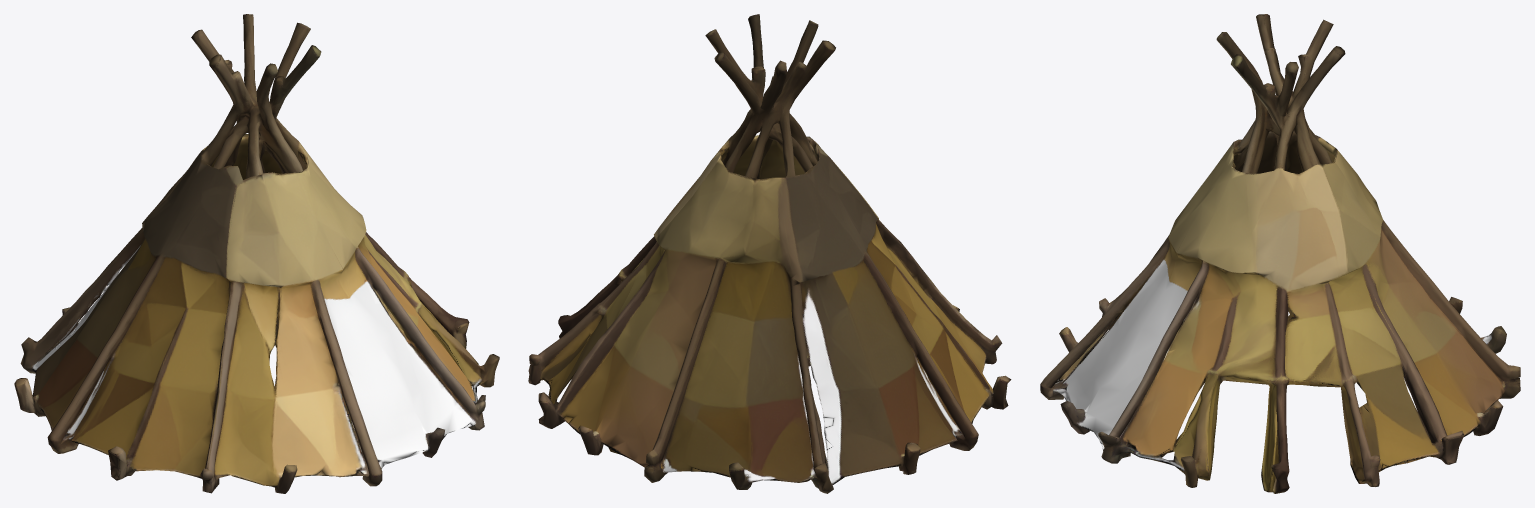
File: hut_hide.glb
3 renders of one model, left to right at view 1: azimuth 30°, elevation 25°; view 2: azimuth 150°, elevation 25°; view 3: azimuth 270°, elevation 25°, orthographic.
Visible parts, largest first — view 1: world; view 2: world; view 3: world.
Boxes of the visible parts, x1,y1,x2,y2 form: world: (14, 14, 499, 493); world: (528, 14, 1011, 493); world: (1040, 14, 1520, 493).
Bounding box in the file's own units: 1 × 0.8439 × 1.
Materials: 1 (1 with a texture image).
